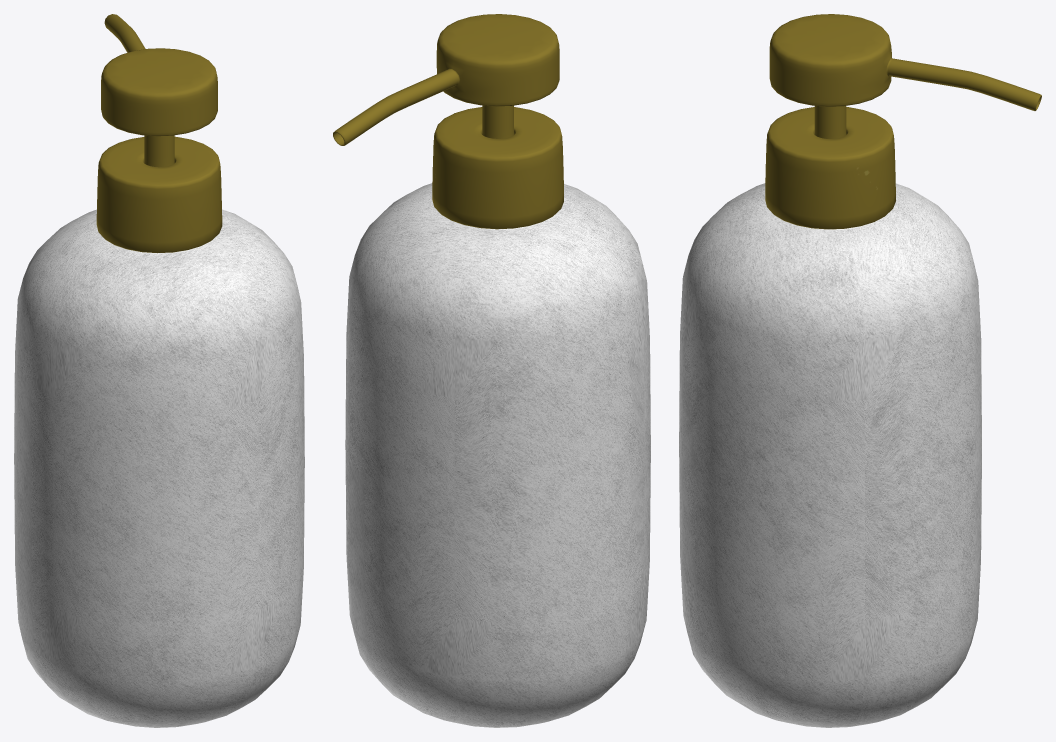
File: 4_sop.glb
3 renders of one model, left to right at view 1: azimuth 30°, elevation 25°; view 2: azimuth 150°, elevation 25°; view 3: azimuth 270°, elevation 25°, orthographic. The views are drawn at different scales.
Visible parts, largest first — view 1: Soap dispenser; view 2: Soap dispenser; view 3: Soap dispenser.
Part boxes in pixels (bbox=[...]): Soap dispenser: bbox=[14, 14, 304, 727]; Soap dispenser: bbox=[333, 14, 650, 727]; Soap dispenser: bbox=[679, 14, 1041, 727].
Bounding box in the file's own units: 0.075 × 0.18 × 0.089.
Materials: 2 (2 with a texture image).
